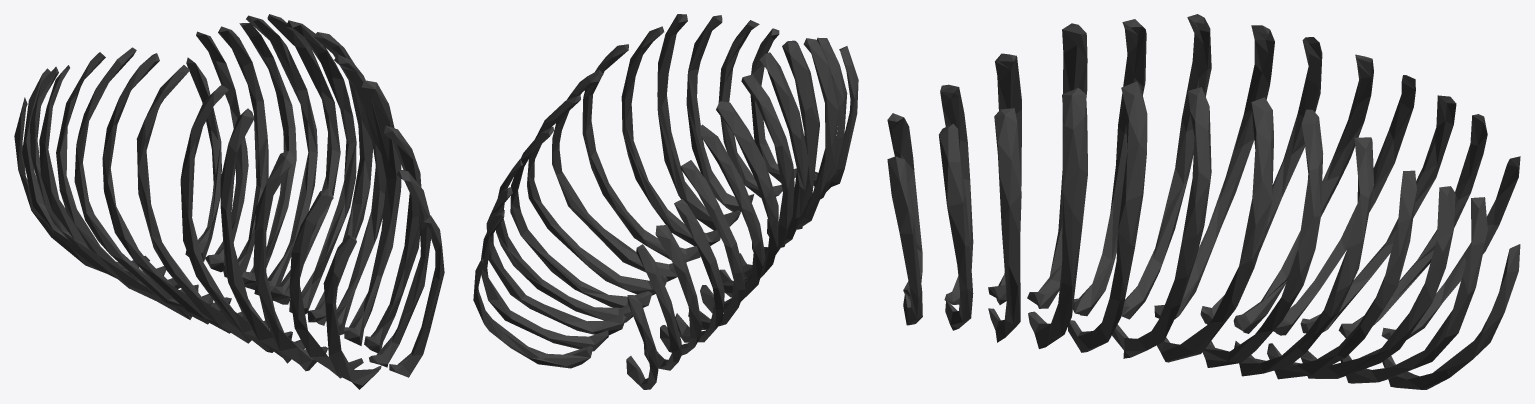
Rendered from Ribs.glb.
3 views of the same model, side by side, from view 1: azimuth 30°, elevation 25°; view 2: azimuth 150°, elevation 25°; view 3: azimuth 270°, elevation 25° (orthographic). The views are drawn at different scales.
Visible parts, largest first — view 1: Ribs; view 2: Ribs; view 3: Ribs.
Part boxes in pixels (box(x1,y1,x2,y2)): Ribs: box(14, 14, 444, 389); Ribs: box(473, 14, 858, 389); Ribs: box(887, 14, 1520, 389).
Bounding box in the file's own units: 0.00495 × 0.00522 × 0.00944.
Materials: 1 (1 with a texture image).
